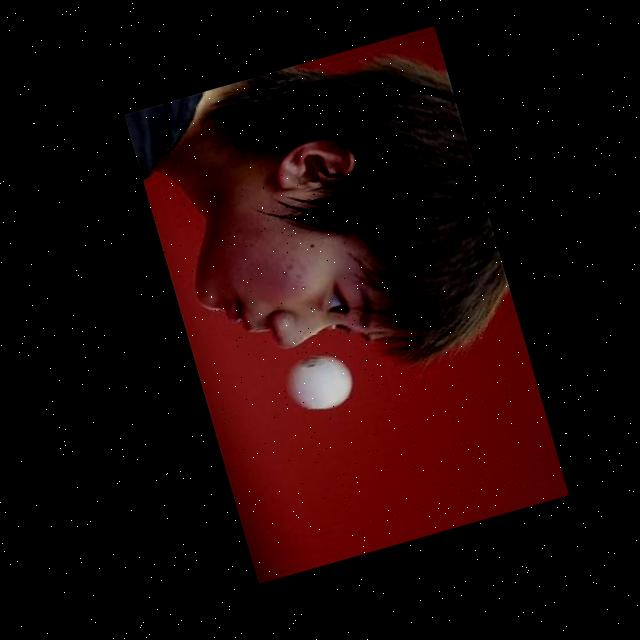ping-pong-ball: (280, 342, 360, 419)
